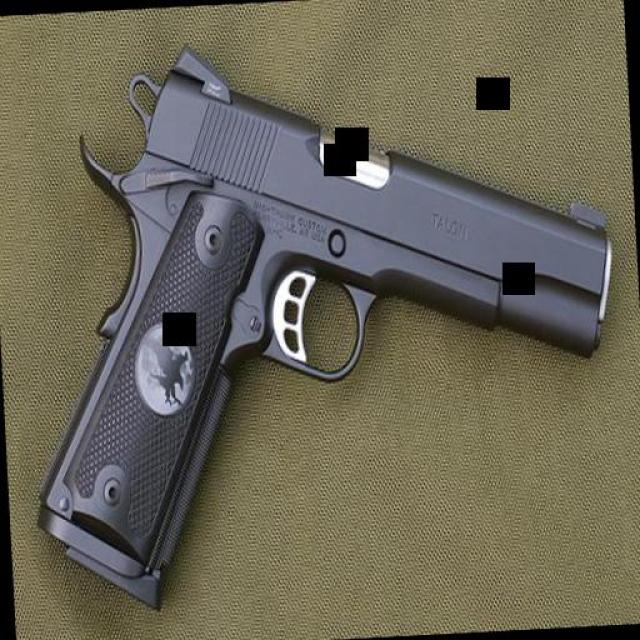gun: (8, 21, 632, 614)
